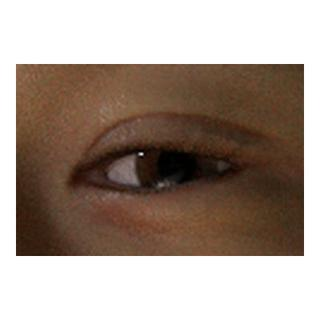pupil: (158, 145, 196, 183)
